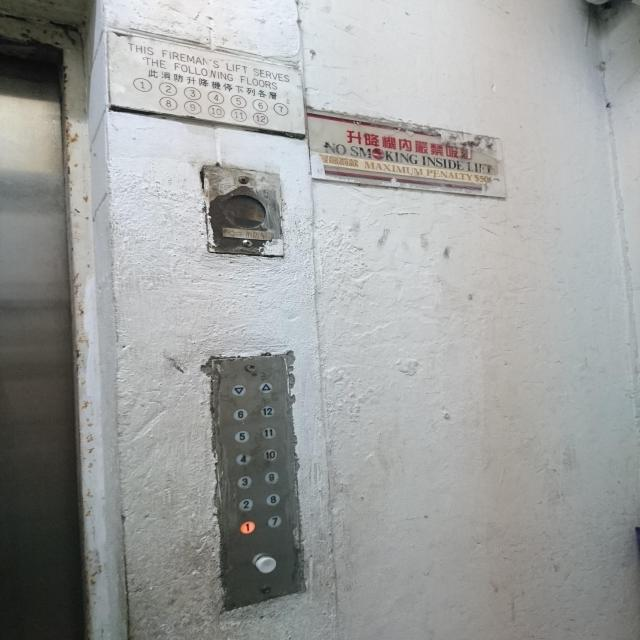1: (133, 78, 152, 92), (240, 521, 255, 534)
10: (208, 105, 224, 118), (263, 449, 277, 461)
11: (231, 108, 247, 121), (262, 427, 275, 438)
12: (252, 112, 268, 125), (261, 405, 274, 417)
2: (158, 82, 177, 95), (239, 498, 253, 511)
3: (183, 86, 201, 100), (237, 475, 252, 489)
4: (207, 91, 224, 104), (236, 453, 250, 465)
5: (230, 95, 246, 108), (234, 430, 250, 443)
6: (252, 100, 268, 112), (233, 408, 247, 420)
7: (267, 515, 281, 528), (273, 103, 288, 115)
8: (159, 97, 177, 110), (266, 493, 280, 506)
9: (183, 100, 200, 114), (264, 471, 279, 484)
down: (232, 384, 246, 396)
empty: (252, 553, 276, 573)
up: (258, 382, 272, 393)
